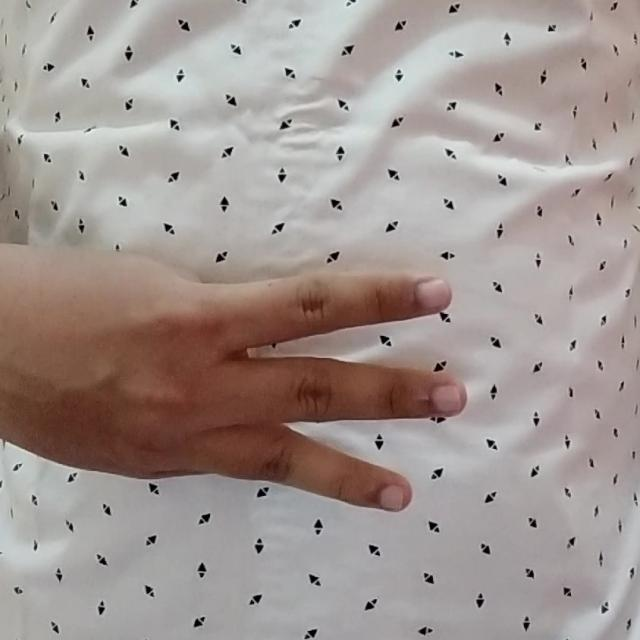E: (8, 229, 476, 525)
